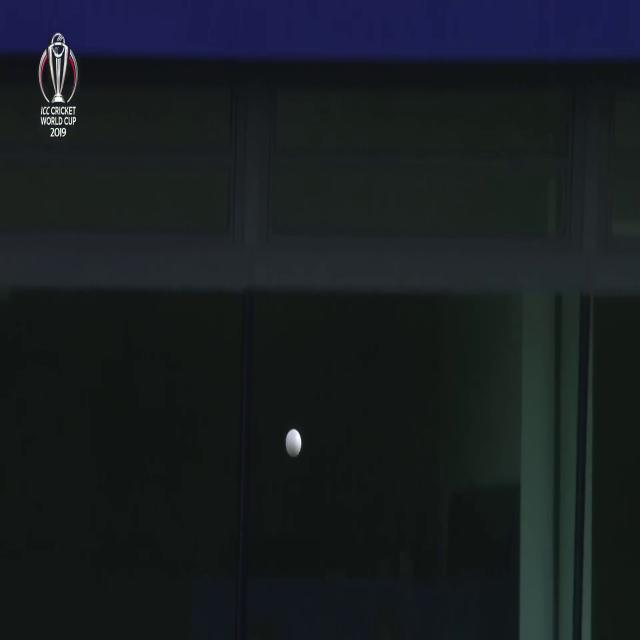ball: (281, 425, 307, 461)
